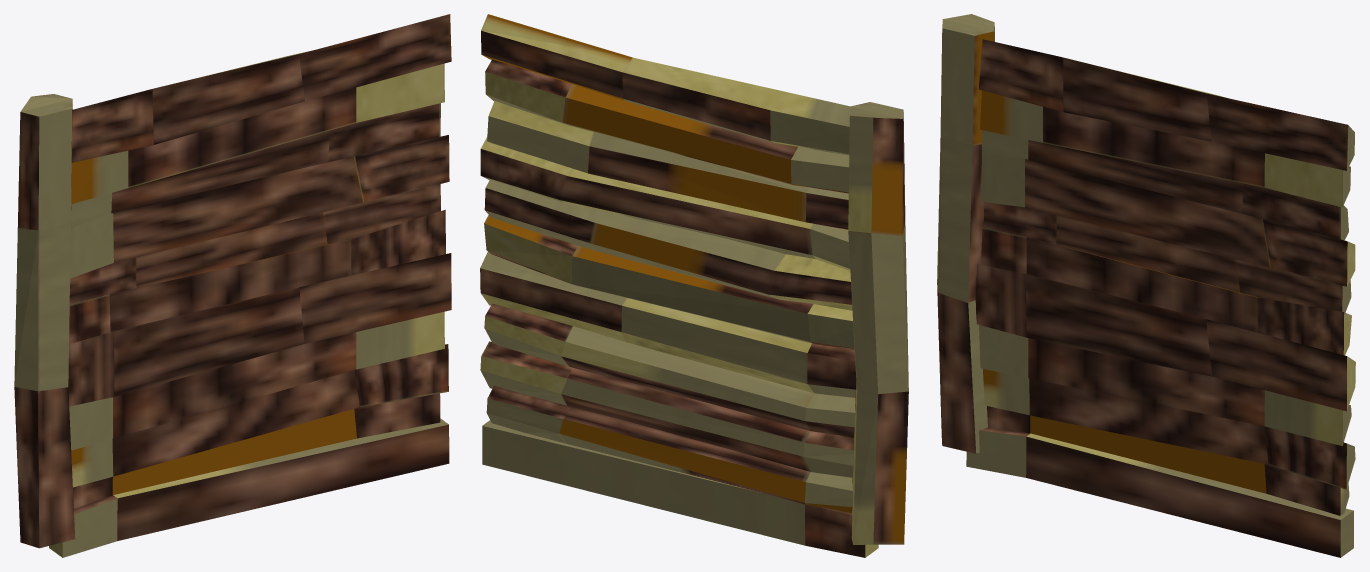
File: hutWall.obj
3 views of the same model, side by side, from view 1: azimuth 30°, elevation 25°; view 2: azimuth 150°, elevation 25°; view 3: azimuth 330°, elevation 25° (orthographic). The views are drawn at different scales.
Parts seen in each view (by area): view 1: hutWall; view 2: hutWall; view 3: hutWall.
Boxes of the visible parts, <box> form: hutWall: <box>14,14,451,557</box>; hutWall: <box>480,14,908,557</box>; hutWall: <box>937,14,1355,557</box>.
Size of the model in its own units: 1 by 1 by 0.1.
1 material, 1 textured.
